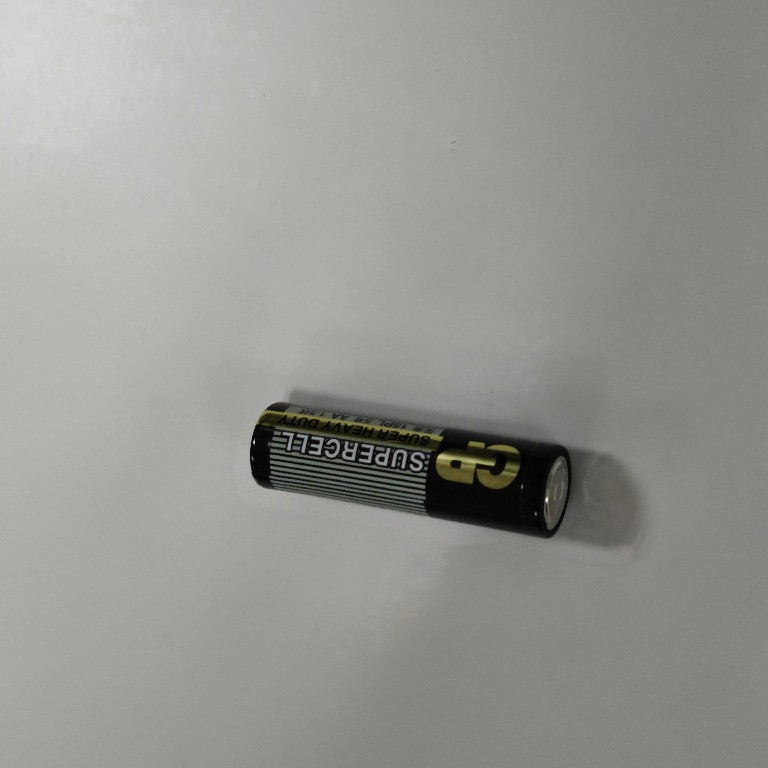charge: (246, 399, 578, 544)
